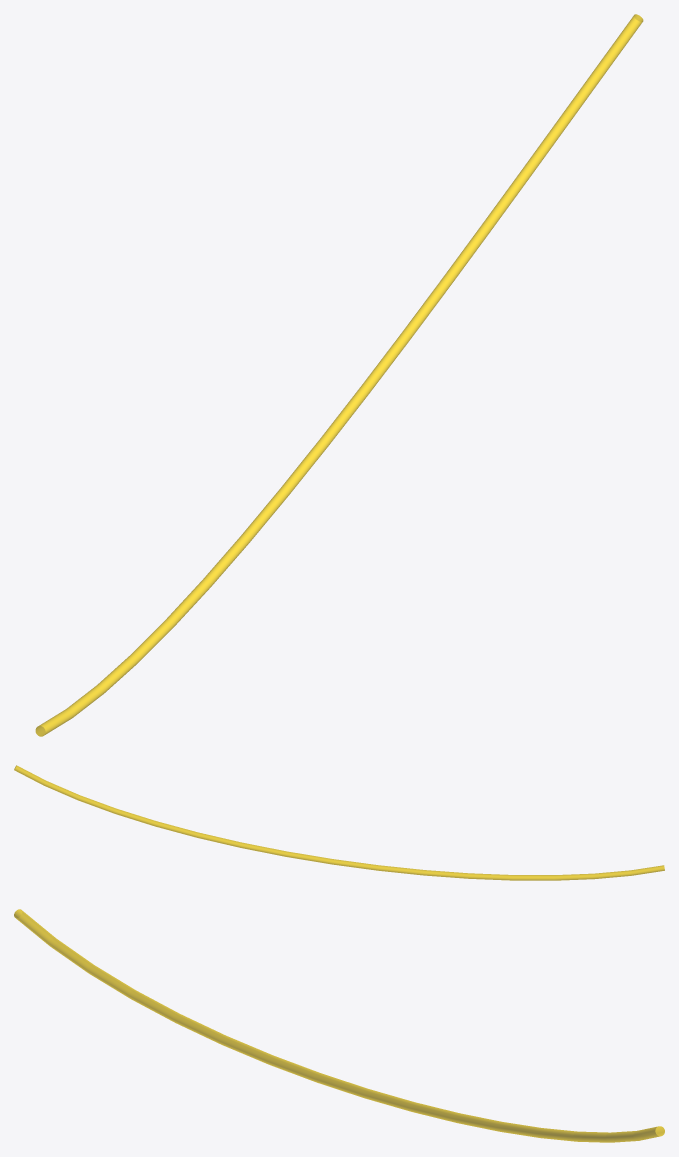
File: Event_27938768_track_10.fbx
3 renders of one model, top to bottom at view 1: azimuth 30°, elevation 25°; view 2: azimuth 150°, elevation 25°; view 3: azimuth 270°, elevation 25°, orthographic. The views are drawn at different scales.
Parts seen in each view (by area): view 1: Model; view 2: Model; view 3: Model.
Part boxes in pixels (left/top/right/bottom): Model: left=35, top=14, right=643, bottom=736; Model: left=14, top=765, right=664, bottom=880; Model: left=14, top=909, right=664, bottom=1142.
Bounding box in the file's own units: 3.93 × 0.9727 × 2.53.
